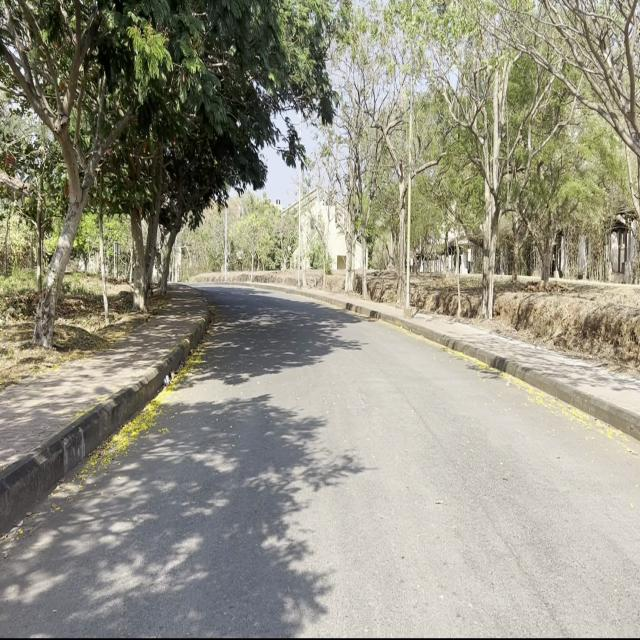Road: (5, 283, 637, 636)
